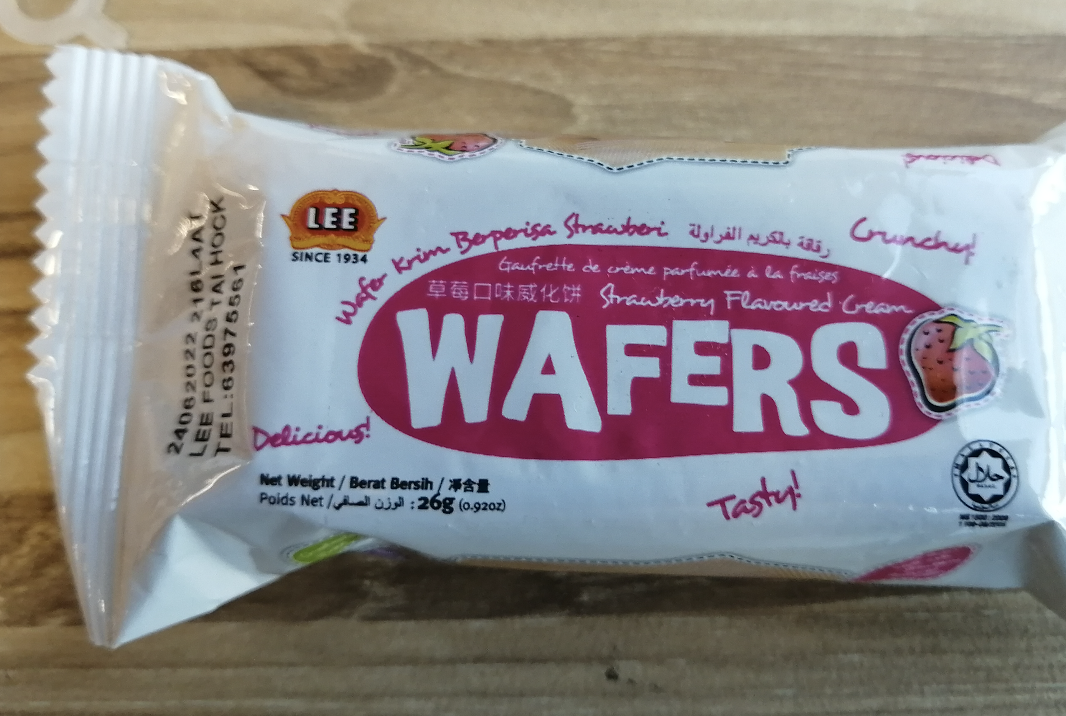Halal: (963, 449, 1008, 501)
